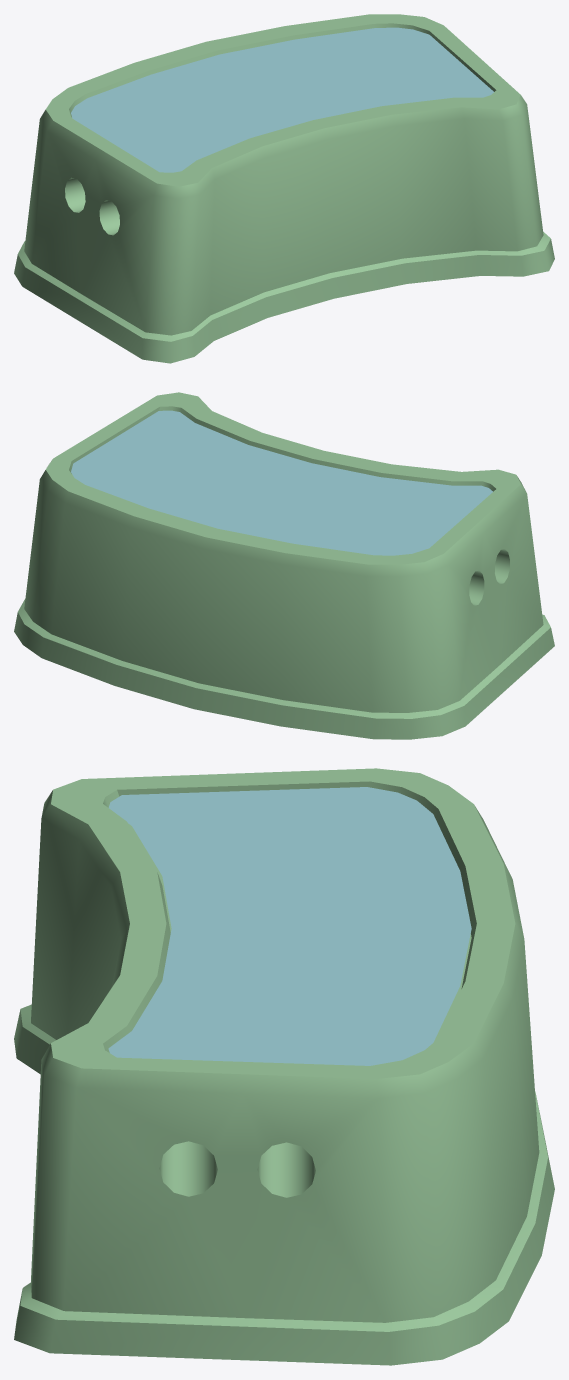
File: IKEAD002.FBX
The picture shows the model from 3 angles, top to bottom: view 1: azimuth 30°, elevation 25°; view 2: azimuth 150°, elevation 25°; view 3: azimuth 270°, elevation 25°; orthographic projection. The views are drawn at different scales.
Parts seen in each view (by area): view 1: IKEAD002; view 2: IKEAD002; view 3: IKEAD002.
Boxes of the visible parts, x1,y1,x2,y2 form: IKEAD002: (14, 14, 554, 363); IKEAD002: (14, 392, 554, 739); IKEAD002: (14, 768, 554, 1365).
Size of the model in its own units: 37 by 24 by 13.
